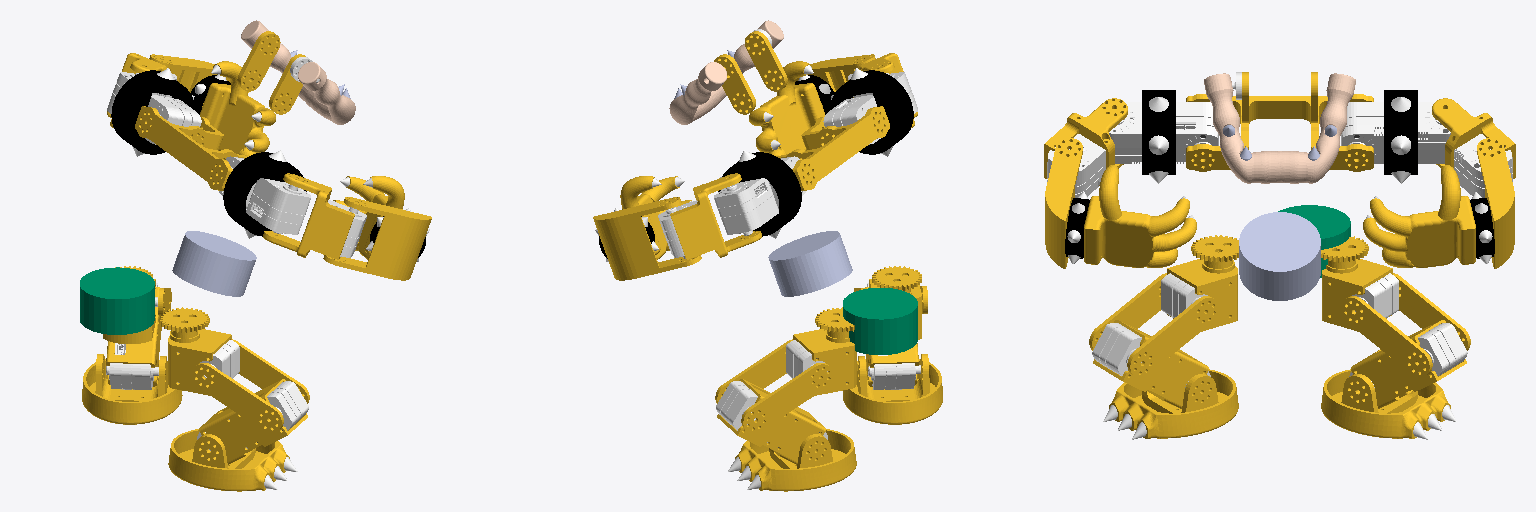
--- Facts derived from the render (not from the file) ---
The picture shows the robot from 3 angles, left to right: view 1: azimuth 30°, elevation 25°; view 2: azimuth 150°, elevation 25°; view 3: azimuth 270°, elevation 25°; orthographic projection.
Model bowser with 21 links and 20 joints (20 continuous), rooted at base_link, posed every joint at zero.
Links seen in each view (by area): view 1: right_arm_link3, left_arm_link3, head_link1, right_arm_link1, right_leg_link3, right_omni_link, left_arm_Link1, right_leg_link, right_leg_link1, left_leg_link3, arm_link, center_omni_link (+5 smaller); view 2: left_arm_link3, right_arm_link3, head_link1, left_arm_Link1, left_leg_link3, right_arm_link1, right_omni_link, left_leg_link1, right_leg_link3, arm_link, center_omni_link, left_arm_link2 (+5 smaller); view 3: left_arm_link3, right_arm_link3, head_link1, left_leg_link2, left_arm_Link1, right_arm_link1, center_omni_link, left_leg_link3, right_leg_link3, right_leg_link, left_leg_link, left_leg_link1 (+6 smaller).
Boxes of the visible links, <box> form: right_arm_link3: <box>323,176,431,280</box>; left_arm_link3: <box>149,54,275,155</box>; head_link1: <box>237,20,355,124</box>; right_arm_link1: <box>219,150,310,238</box>; right_leg_link3: <box>168,429,297,491</box>; right_omni_link: <box>80,267,154,334</box>; left_arm_Link1: <box>107,68,201,156</box>; right_leg_link: <box>159,307,239,395</box>; right_leg_link1: <box>191,339,309,432</box>; left_leg_link3: <box>82,354,182,424</box>; arm_link: <box>135,106,248,190</box>; center_omni_link: <box>172,231,256,296</box>; left_arm_link3: <box>593,176,701,280</box>; right_arm_link3: <box>749,54,875,155</box>; head_link1: <box>669,20,787,124</box>; left_arm_Link1: <box>714,150,805,238</box>; left_leg_link3: <box>728,429,856,491</box>; right_arm_link1: <box>823,68,917,156</box>; right_omni_link: <box>843,288,917,354</box>; left_leg_link1: <box>715,339,833,432</box>; right_leg_link3: <box>843,354,942,424</box>; arm_link: <box>776,106,889,190</box>; center_omni_link: <box>768,231,852,296</box>; left_arm_link2: <box>658,173,761,259</box>; left_arm_link3: <box>1363,138,1514,268</box>; right_arm_link3: <box>1045,138,1196,268</box>; head_link1: <box>1204,72,1355,183</box>; left_leg_link2: <box>1092,320,1467,408</box>; left_arm_Link1: <box>1341,90,1450,183</box>; right_arm_link1: <box>1109,90,1218,183</box>; center_omni_link: <box>1239,212,1320,300</box>; left_leg_link3: <box>1321,369,1456,439</box>; right_leg_link3: <box>1103,369,1238,439</box>; right_leg_link: <box>1161,235,1238,331</box>; left_leg_link: <box>1321,236,1398,331</box>; left_leg_link1: <box>1341,273,1470,377</box>.
Bounding box of the posed robot: 0.1764 × 0.276 × 0.2566 m (x, y, z).
17 mesh visuals loaded from 19 distinct referenced files (17 Collada DAE); not drawn: 2 (reference not matched to a file when rendering).

robot.urdf — bowser:
<?xml version='1.0' encoding='UTF-8'?>
<robot name="bowser">
  <link name="base_link">
    <inertial>
      <origin xyz="-0.0172862370243295 0.0174179252110844 -0.0384256118835408" rpy="0.0 -0.0 0.0"/>
      <mass value="1.07571326038379"/>
      <inertia ixx="0.00358832536052544" ixy="-3.60699795348327e-06" ixz="0.00053779355611646" iyy="0.00240474106091267" iyz="-8.0158991088152e-06" izz="0.00194451963723306"/>
    </inertial>
    <visual>
      <geometry>
        <mesh filename="package://bowser/meshes/base_link.dae"/>
      </geometry>
      <material name=""/>
      <origin xyz="-0.0677738031643562 0.0175 -0.0405824661838448" rpy="3.14159265358979 -2.80808253194293e-17 3.14159265358979"/>
    </visual>
    <collision>
      <geometry>
        <mesh filename="package://bowser/meshes/base_link.dae"/>
      </geometry>
      <origin xyz="-0.0677738031643562 0.0175 -0.0405824661838448" rpy="3.14159265358979 -2.80808253194293e-17 3.14159265358979"/>
    </collision>
  </link>
  <link name="arm_link">
    <inertial>
      <origin xyz="0.0185452681948974 0.0175000194476943 0.112782402994197" rpy="0.0 -0.0 0.0"/>
      <mass value="0.0180689507713013"/>
      <inertia ixx="1.77532383113865e-05" ixy="2.36852037760229e-19" ixz="-1.72151506568511e-06" iyy="5.7587429793183e-06" iyz="-3.77307064930499e-19" izz="2.12107700185249e-05"/>
    </inertial>
    <visual>
      <geometry>
        <mesh filename="package://bowser/meshes/arm_link.dae"/>
      </geometry>
      <material name=""/>
      <origin xyz="0.0157798663985208 0.0175000097237995 0.111640335878809" rpy="0.0 -0.391648329980259 3.23303124723229e-14"/>
    </visual>
    <collision>
      <geometry>
        <mesh filename="package://bowser/meshes/arm_link.dae"/>
      </geometry>
      <origin xyz="0.0157798663985208 0.0175000097237995 0.111640335878809" rpy="0.0 -0.391648329980259 3.23303124723229e-14"/>
    </collision>
  </link>
  <link name="left_arm_Link1">
    <inertial>
      <origin xyz="0.0157806354906083 -0.00150141674161319 0.111642222266866" rpy="0.0 -0.0 0.0"/>
      <mass value="0.0627449638126667"/>
      <inertia ixx="1.06694647152824e-05" ixy="1.20025427547083e-08" ixz="1.3457421796219e-08" iyy="1.31408512095508e-05" iyz="-2.88896529683435e-08" izz="1.07074324677628e-05"/>
    </inertial>
    <visual>
      <geometry>
        <mesh filename="package://bowser/meshes/left_arm_Link1.dae"/>
      </geometry>
      <material name=""/>
      <origin xyz="0.0157798505056382 -0.0275000000000995 0.111640333101539" rpy="1.7291205081823e-14 -0.391648329980259 2.58327614920899e-14"/>
    </visual>
    <collision>
      <geometry>
        <mesh filename="package://bowser/meshes/left_arm_Link1.dae"/>
      </geometry>
      <origin xyz="0.0157798505056382 -0.0275000000000995 0.111640333101539" rpy="1.7291205081823e-14 -0.391648329980259 2.58327614920899e-14"/>
    </collision>
  </link>
  <link name="left_arm_link2">
    <inertial>
      <origin xyz="0.0293336165126018 -0.0431146137999066 -0.111023037519431" rpy="0.0 -0.0 0.0"/>
      <mass value="0.03071656405111"/>
      <inertia ixx="6.24454977381069e-06" ixy="-6.23670031800418e-07" ixz="5.6366778460892e-07" iyy="5.57282269008493e-06" iyz="3.11593108185461e-07" izz="5.1201616663811e-06"/>
    </inertial>
    <visual>
      <geometry>
        <mesh filename="package://bowser/meshes/left_arm_link2.dae"/>
      </geometry>
      <material name=""/>
      <origin xyz="0.0507574408403025 -0.063189681763238 -0.111640333101526" rpy="-3.14159265358979 0.39164832998034693 -2.26892802759262"/>
    </visual>
    <collision>
      <geometry>
        <mesh filename="package://bowser/meshes/left_arm_link2.dae"/>
      </geometry>
      <origin xyz="0.0507574408403025 -0.063189681763238 -0.111640333101526" rpy="-3.14159265358979 0.39164832998034693 -2.26892802759262"/>
    </collision>
  </link>
  <link name="left_arm_link3">
    <inertial>
      <origin xyz="0.0529725461602323 -0.0833440224306198 -0.122429629501672" rpy="0.0 -0.0 0.0"/>
      <mass value="0.0461060541991233"/>
      <inertia ixx="1.73242504741454e-05" ixy="-2.84789875122409e-07" ixz="8.96964222358683e-07" iyy="1.32117829576276e-05" iyz="-1.07229726991123e-06" izz="1.3530077171721e-05"/>
    </inertial>
    <visual>
      <geometry>
        <mesh filename="package://bowser/meshes/left_arm_link3.dae"/>
      </geometry>
      <material name=""/>
      <origin xyz="0.0960520740804173 -0.0648521907989954 -0.111640333101549" rpy="3.14159265358979 0.3916483299806829 -1.74532925199433"/>
    </visual>
    <collision>
      <geometry>
        <mesh filename="package://bowser/meshes/left_arm_link3.dae"/>
      </geometry>
      <origin xyz="0.0960520740804173 -0.0648521907989954 -0.111640333101549" rpy="3.14159265358979 0.3916483299806829 -1.74532925199433"/>
    </collision>
  </link>
  <link name="right_arm_link1">
    <inertial>
      <origin xyz="0.0157806354739275 -0.0884985833987466 -0.111642222273736" rpy="0.0 -0.0 0.0"/>
      <mass value="0.0627449638126667"/>
      <inertia ixx="1.0701826091592e-05" ixy="-2.88899877718708e-08" ixz="-1.90402837100739e-08" iyy="1.31408512095508e-05" iyz="-1.2001736863026e-08" izz="1.06750710914532e-05"/>
    </inertial>
    <visual>
      <geometry>
        <mesh filename="package://bowser/meshes/right_arm_link1.dae"/>
      </geometry>
      <material name=""/>
      <origin xyz="0.0157798505056382 -0.0624999999999038 -0.111640333101537" rpy="3.14159265358978 0.391648329980259 -3.78444093103145e-14"/>
    </visual>
    <collision>
      <geometry>
        <mesh filename="package://bowser/meshes/right_arm_link1.dae"/>
      </geometry>
      <origin xyz="0.0157798505056382 -0.0624999999999038 -0.111640333101537" rpy="3.14159265358978 0.391648329980259 -3.78444093103145e-14"/>
    </collision>
  </link>
  <link name="right_arm_link2">
    <inertial>
      <origin xyz="0.0561240616822117 0.0656373382998995 -0.110943513011907" rpy="0.0 -0.0 0.0"/>
      <mass value="0.0307165635463501"/>
      <inertia ixx="6.24838151087057e-06" ixy="6.61793174679761e-07" ixz="5.59820080043751e-07" iyy="5.57282259214839e-06" iyz="-2.19281499307165e-07" izz="5.11633005589501e-06"/>
    </inertial>
    <visual>
      <geometry>
        <mesh filename="package://bowser/meshes/right_arm_link2.dae"/>
      </geometry>
      <material name=""/>
      <origin xyz="0.0775689963493154 0.0856872481021434 -0.111640333101536" rpy="-3.14159265358979 0.391648329980171 2.26892802759259"/>
    </visual>
    <collision>
      <geometry>
        <mesh filename="package://bowser/meshes/right_arm_link2.dae"/>
      </geometry>
      <origin xyz="0.0775689963493154 0.0856872481021434 -0.111640333101536" rpy="-3.14159265358979 0.391648329980171 2.26892802759259"/>
    </collision>
  </link>
  <link name="right_arm_link3">
    <inertial>
      <origin xyz="0.0874407294924414 0.0894222438480117 -0.122429885338886" rpy="0.0 -0.0 0.0"/>
      <mass value="0.0461069184836773"/>
      <inertia ixx="1.73247672578176e-05" ixy="2.84728352852963e-07" ixz="8.96967980064958e-07" iyy="1.32119191374547e-05" iyz="1.07234421411429e-06" izz="1.35304713148511e-05"/>
    </inertial>
    <visual>
      <geometry>
        <mesh filename="package://bowser/meshes/right_arm_link3.dae"/>
      </geometry>
      <material name=""/>
      <origin xyz="0.130520345435634 0.0709298770173241 -0.111640333101548" rpy="-3.1415926535897 0.39164832998025584 1.74532925199433"/>
    </visual>
    <collision>
      <geometry>
        <mesh filename="package://bowser/meshes/right_arm_link3.dae"/>
      </geometry>
      <origin xyz="0.130520345435634 0.0709298770173241 -0.111640333101548" rpy="-3.1415926535897 0.39164832998025584 1.74532925199433"/>
    </collision>
  </link>
  <link name="head_link1">
    <inertial>
      <origin xyz="-0.044325374982728 -0.0180411342257961 0.166095025038656" rpy="0.0 -0.0 0.0"/>
      <mass value="0.0349073571719236"/>
      <inertia ixx="2.60861897531727e-05" ixy="3.23076378895872e-11" ixz="-4.65050114537364e-06" iyy="1.14931510104479e-05" iyz="-1.80233886000198e-10" izz="2.38242106804047e-05"/>
    </inertial>
    <visual>
      <geometry>
        <mesh filename="package://bowser/meshes/head_link1.dae"/>
      </geometry>
      <material name=""/>
      <origin xyz="-0.0138318254464297 -0.0174999999999993 0.163972973567231" rpy="-5.58997369476623e-16 -0.5585053606381821 -3.14159265358979"/>
    </visual>
    <collision>
      <geometry>
        <mesh filename="package://bowser/meshes/head_link1.dae"/>
      </geometry>
      <origin xyz="-0.0138318254464297 -0.0174999999999993 0.163972973567231" rpy="-5.58997369476623e-16 -0.5585053606381821 -3.14159265358979"/>
    </collision>
  </link>
  <link name="head_link2">
    <inertial>
      <origin xyz="-0.133552794603525 0.0174768647081898 -0.17490933846931" rpy="0.0 -0.0 0.0"/>
      <mass value="0.120523025252236"/>
      <inertia ixx="3.97613676417708e-05" ixy="-2.01601733527065e-09" ixz="-2.02548857861602e-06" iyy="2.78371840412587e-05" iyz="1.37571282176212e-08" izz="5.38535897084007e-05"/>
    </inertial>
    <visual>
      <geometry>
        <mesh filename="package://bowser/meshes/head_link2.dae"/>
      </geometry>
      <material name=""/>
      <origin xyz="-0.111870472348922 0.0175000000000001 -0.152928419695134" rpy="3.14159265358979 8.5015291933416e-16 3.14159265358979"/>
    </visual>
    <collision>
      <geometry>
        <mesh filename="package://bowser/meshes/head_link2.dae"/>
      </geometry>
      <origin xyz="-0.111870472348922 0.0175000000000001 -0.152928419695134" rpy="3.14159265358979 8.5015291933416e-16 3.14159265358979"/>
    </collision>
  </link>
  <link name="right_omni_link">
    <inertial>
      <origin xyz="-0.0496363166470292 0.0854999999999993 -0.0550159209504048" rpy="0.0 -0.0 0.0"/>
      <mass value="0.045238934211693"/>
      <inertia ixx="8.87060101667614e-06" ixy="-1.86165150663594e-21" ixz="0.0" iyy="1.30288130529676e-05" iyz="-1.27526965174189e-21" izz="8.87060101667614e-06"/>
    </inertial>
    <visual>
      <geometry>
        <!--<mesh filename="package://bowser/meshes/right_omni_link.dae"/>-->
        <cylinder radius="0.024" length="0.025"/>
      </geometry>
      <material name=""/>
      <origin xyz="-0.0496363166470292 0.0854999999999992 -0.0550159209504048" rpy="-3.14159265358979 0.38397243543875303 3.14159265358979"/>
    </visual>
    <collision>
      <geometry>
        <!--<mesh filename="package://bowser/meshes/right_omni_link.dae"/>-->
        <cylinder radius="0.024" length="0.025"/>
      </geometry>
      <origin xyz="-0.0496363166470292 0.0854999999999992 -0.0550159209504048" rpy="-3.14159265358979 0.38397243543875303 3.14159265358979"/>
    </collision>
  </link>
  <link name="left_omni_link">
    <inertial>
      <origin xyz="-0.0496363166470292 -0.0505000000000007 -0.0550159209504048" rpy="0.0 -0.0 0.0"/>
      <mass value="0.045238934211693"/>
      <inertia ixx="8.87060101667613e-06" ixy="-1.4215195412076e-21" ixz="4.2351647362715e-22" iyy="1.30288130529676e-05" iyz="-1.62199562872005e-21" izz="8.87060101667613e-06"/>
    </inertial>
    <visual>
      <geometry>
        <!--<mesh filename="package://bowser/meshes/left_omni_link.dae"/>-->
        <cylinder radius="0.024" length="0.025"/>
      </geometry>
      <material name=""/>
      <origin xyz="-0.0496363166470292 -0.0505000000000007 -0.0550159209504048" rpy="3.14159265358979 0.38397243543875303 3.14159265358979"/>
    </visual>
    <collision>
      <geometry>
        <!--<mesh filename="package://bowser/meshes/left_omni_link.dae"/>-->
        <cylinder radius="0.024" length="0.025"/>
      </geometry>
      <origin xyz="-0.0496363166470292 -0.0505000000000007 -0.0550159209504048" rpy="3.14159265358979 0.38397243543875303 3.14159265358979"/>
    </collision>
  </link>
  <link name="center_omni_link">
    <inertial>
      <origin xyz="-0.0496363166470319 0.0175 -0.0405159209504036" rpy="0.0 -0.0 0.0"/>
      <mass value="0.045238934211693"/>
      <inertia ixx="9.45412332684603e-06" ixy="-7.05860789378584e-22" ixz="-1.44426839857661e-06" iyy="8.87060101667613e-06" iyz="-1.78119558569752e-21" izz="1.24452907427977e-05"/>
    </inertial>
    <visual>
      <geometry>
        <mesh filename="package://bowser/meshes/center_omni_link.dae"/>
      </geometry>
      <material name=""/>
      <origin xyz="-0.0496363166470319 0.0175 -0.0405159209504035" rpy="-3.14159265358979 0.38397243543875303 -3.14159265358979"/>
    </visual>
    <collision>
      <geometry>
        <mesh filename="package://bowser/meshes/center_omni_link.dae"/>
      </geometry>
      <origin xyz="-0.0496363166470319 0.0175 -0.0405159209504035" rpy="-3.14159265358979 0.38397243543875303 -3.14159265358979"/>
    </collision>
  </link>
  <link name="right_leg_link">
    <inertial>
      <origin xyz="0.0211688897615015 -0.0622954767705835 0.0270355334650468" rpy="0.0 -0.0 0.0"/>
      <mass value="0.03897140127634"/>
      <inertia ixx="5.56461883529681e-06" ixy="1.9967389357433e-07" ixz="2.69693720567138e-08" iyy="5.41426279285964e-06" iyz="-4.16843504968473e-08" izz="5.65176552055112e-06"/>
    </inertial>
    <visual>
      <geometry>
        <mesh filename="package://bowser/meshes/right_leg_link.dae"/>
      </geometry>
      <material name=""/>
      <origin xyz="0.0155320374883209 -0.0544358117950135 0.00400000000000031" rpy="4.682675583284411e-15 -3.13037374448842e-15 -2.53072741539178"/>
    </visual>
    <collision>
      <geometry>
        <mesh filename="package://bowser/meshes/right_leg_link.dae"/>
      </geometry>
      <origin xyz="0.0155320374883209 -0.0544358117950135 0.00400000000000031" rpy="4.682675583284411e-15 -3.13037374448842e-15 -2.53072741539178"/>
    </collision>
  </link>
  <link name="right_leg_link1">
    <inertial>
      <origin xyz="0.00119261561664627 0.0615826349934407 -0.00389045113008859" rpy="0.0 -0.0 0.0"/>
      <mass value="0.00661141153462385"/>
      <inertia ixx="1.74056775824804e-06" ixy="8.45524886734918e-07" ixz="-4.36270188277786e-07" iyy="1.12507597604239e-06" iyz="-6.23058399789937e-07" izz="1.80949469837897e-06"/>
    </inertial>
    <visual>
      <geometry>
        <mesh filename="package://bowser/meshes/right_leg_link1.dae"/>
      </geometry>
      <material name=""/>
      <origin xyz="0.0155320265254325 0.080142731906048 -0.0125451664565899" rpy="-2.77671934805724 0.24484286215515394 2.5761172062619"/>
    </visual>
    <collision>
      <geometry>
        <mesh filename="package://bowser/meshes/right_leg_link1.dae"/>
      </geometry>
      <origin xyz="0.0155320265254325 0.080142731906048 -0.0125451664565899" rpy="-2.77671934805724 0.24484286215515394 2.5761172062619"/>
    </collision>
  </link>
  <link name="right_leg_link2">
    <inertial>
      <origin xyz="-0.0886805625016655 0.0925862028740503 -0.061369987384431" rpy="0.0 -0.0 0.0"/>
      <mass value="0.0523990895017907"/>
      <inertia ixx="8.9217792158087e-06" ixy="5.42801899274871e-07" ixz="6.68364367893434e-07" iyy="8.5084612890202e-06" iyz="1.00944033325595e-06" izz="9.13260129735795e-06"/>
    </inertial>
    <visual>
      <geometry>
        <mesh filename="package://bowser/meshes/right_leg_link2.dae"/>
      </geometry>
      <material name=""/>
      <origin xyz="-0.0724940125970381 0.0794614895134548 -0.0759357987991357" rpy="-2.27806788622044 0.489116666389122 -2.63901107573773"/>
    </visual>
    <collision>
      <geometry>
        <mesh filename="package://bowser/meshes/right_leg_link2.dae"/>
      </geometry>
      <origin xyz="-0.0724940125970381 0.0794614895134548 -0.0759357987991357" rpy="-2.27806788622044 0.489116666389122 -2.63901107573773"/>
    </collision>
  </link>
  <link name="right_leg_link3">
    <inertial>
      <origin xyz="0.0126401706541042 0.0773653859015674 0.0882271591060047" rpy="0.0 -0.0 0.0"/>
      <mass value="0.0250670111634406"/>
      <inertia ixx="8.80338515551374e-06" ixy="3.11783544259289e-07" ixz="8.19461229713681e-08" iyy="8.57882804984e-06" iyz="1.1097488989503e-07" izz="1.57008923714625e-05"/>
    </inertial>
    <visual>
      <geometry>
        <mesh filename="package://bowser/meshes/right_leg_link3.dae"/>
      </geometry>
      <material name=""/>
      <origin xyz="0.0155320265254159 0.0814744335350602 0.0728833113409256" rpy="-3.14159265358979 3.08780254995788e-16 2.53072741539178"/>
    </visual>
    <collision>
      <geometry>
        <mesh filename="package://bowser/meshes/right_leg_link3.dae"/>
      </geometry>
      <origin xyz="0.0155320265254159 0.0814744335350602 0.0728833113409256" rpy="-3.14159265358979 3.08780254995788e-16 2.53072741539178"/>
    </collision>
  </link>
  <link name="left_leg_link">
    <inertial>
      <origin xyz="0.000914602095620652 0.0337505664284176 0.0270355333892133" rpy="0.0 -0.0 0.0"/>
      <mass value="0.0389714013100235"/>
      <inertia ixx="5.56019900614236e-06" ixy="-2.01282579905886e-07" ixz="-4.83945261831144e-08" iyy="5.41868260081158e-06" iyz="-1.1086058805193e-08" izz="5.65176552704427e-06"/>
    </inertial>
    <visual>
      <geometry>
        <mesh filename="package://bowser/meshes/left_leg_link.dae"/>
      </geometry>
      <material name=""/>
      <origin xyz="-0.00454314865356559 0.0257654769359373 0.00399999999999986" rpy="7.04429966175573e-15 5.87160346137124e-17 2.53072741539178"/>
    </visual>
    <collision>
      <geometry>
        <mesh filename="package://bowser/meshes/left_leg_link.dae"/>
      </geometry>
      <origin xyz="-0.00454314865356559 0.0257654769359373 0.00399999999999986" rpy="7.04429966175573e-15 5.87160346137124e-17 2.53072741539178"/>
    </collision>
  </link>
  <link name="left_leg_link1">
    <inertial>
      <origin xyz="0.0188825596561263 -0.035598499318493 -0.00822615032368594" rpy="0.0 -0.0 0.0"/>
      <mass value="0.00661141153462385"/>
      <inertia ixx="1.74056775824802e-06" ixy="-8.45524886734942e-07" ixz="-4.36270188277763e-07" iyy="1.12507597604236e-06" iyz="6.23058399789902e-07" izz="1.80949469837902e-06"/>
    </inertial>
    <visual>
      <geometry>
        <mesh filename="package://bowser/meshes/left_leg_link1.dae"/>
      </geometry>
      <material name=""/>
      <origin xyz="0.00454314874685075 -0.0541585962283513 0.000428564999422994" rpy="-0.36487330553251207 -0.244842862155159 -0.565475447327903"/>
    </visual>
    <collision>
      <geometry>
        <mesh filename="package://bowser/meshes/left_leg_link1.dae"/>
      </geometry>
      <origin xyz="0.00454314874685075 -0.0541585962283513 0.000428564999422994" rpy="-0.36487330553251207 -0.244842862155159 -0.565475447327903"/>
    </collision>
  </link>
  <link name="left_leg_link2">
    <inertial>
      <origin xyz="-0.088652364230855 -0.0666180206413702 -0.0378376493623563" rpy="0.0 -0.0 0.0"/>
      <mass value="0.0523990894756317"/>
      <inertia ixx="8.90571663540611e-06" ixy="-5.48648198232392e-07" ixz="7.19969555042885e-07" iyy="8.52452386521291e-06" iyz="-9.7330599207395e-07" izz="9.13260129674983e-06"/>
    </inertial>
    <visual>
      <geometry>
        <mesh filename="package://bowser/meshes/left_leg_link2.dae"/>
      </geometry>
      <material name=""/>
      <origin xyz="-0.0724940125970807 -0.0535108013229157 -0.0524504462908491" rpy="2.27806788622048 0.489116666389108 2.63901107573777"/>
    </visual>
    <collision>
      <geometry>
        <mesh filename="package://bowser/meshes/left_leg_link2.dae"/>
      </geometry>
      <origin xyz="-0.0724940125970807 -0.0535108013229157 -0.0524504462908491" rpy="2.27806788622048 0.489116666389108 2.63901107573777"/>
    </collision>
  </link>
  <link name="left_leg_link3">
    <inertial>
      <origin xyz="-0.0074153131285151 -0.0486812792291067 0.088227158575456" rpy="0.0 -0.0 0.0"/>
      <mass value="0.0250670077871439"/>
      <inertia ixx="8.8055069211056e-06" ixy="-3.1101065379102e-07" ixz="7.62551447630694e-08" iyy="8.57670454837762e-06" iyz="-1.14959905133708e-07" izz="1.57008906825506e-05"/>
    </inertial>
    <visual>
      <geometry>
        <mesh filename="package://bowser/meshes/left_leg_link3.dae"/>
      </geometry>
      <material name=""/>
      <origin xyz="-0.00454314874685681 -0.0528041119849176 0.0728833113409351" rpy="-3.14159265358978 2.3706517724741496e-14 -2.53072741539179"/>
    </visual>
    <collision>
      <geometry>
        <mesh filename="package://bowser/meshes/left_leg_link3.dae"/>
      </geometry>
      <origin xyz="-0.00454314874685681 -0.0528041119849176 0.0728833113409351" rpy="-3.14159265358978 2.3706517724741496e-14 -2.53072741539179"/>
    </collision>
  </link>
  <joint name="arm" type="continuous">
    <limit effort="0.0" velocity="0.0"/>
    <parent link="base_link"/>
    <child link="arm_link"/>
    <axis xyz=" 0. -1.  0."/>
    <origin xyz="-0.0105742639612754 0.0 0.0565812178428716" rpy="3.14159265358978 -0.391648329980259 -3.14159265358976"/>
  </joint>
  <joint name="left_arm1" type="continuous">
    <limit effort="0.0" velocity="0.0"/>
    <parent link="arm_link"/>
    <child link="left_arm_Link1"/>
    <axis xyz="1. 0. 0."/>
    <origin xyz="0.0 0.0450000097238972 0.0" rpy="0.0 -0.0 0.0"/>
  </joint>
  <joint name="left_arm2" type="continuous">
    <limit effort="0.0" velocity="0.0"/>
    <parent link="left_arm_Link1"/>
    <child link="left_arm_link2"/>
    <axis xyz="0. 0. 1."/>
    <origin xyz="0.0 0.0520000000000004 0.0" rpy="3.14159265358972 -0.0 -2.26892802759258"/>
  </joint>
  <joint name="left_arm3" type="continuous">
    <limit effort="0.0" velocity="0.0"/>
    <parent link="left_arm_link2"/>
    <child link="left_arm_link3"/>
    <axis xyz="0. 0. 1."/>
    <origin xyz="0.0 0.0410000000000041 0.0" rpy="-0.0 -0.0 -0.523598775598285"/>
  </joint>
  <joint name="right_arm1" type="continuous">
    <limit effort="0.0" velocity="0.0"/>
    <parent link="arm_link"/>
    <child link="right_arm_link1"/>
    <axis xyz="-1.  0.  0."/>
    <origin xyz="0.0 -0.0449999902761028 0.0" rpy="-3.14159265358978 -0.0 0.0"/>
  </joint>
  <joint name="right_arm2" type="continuous">
    <limit effort="0.0" velocity="0.0"/>
    <parent link="right_arm_link1"/>
    <child link="right_arm_link2"/>
    <axis xyz=" 0.  0. -1."/>
    <origin xyz="0.0 0.0520000000000013 0.0" rpy="0.0 -0.0 -2.26892802759263"/>
  </joint>
  <joint name="right_arm3" type="continuous">
    <limit effort="0.0" velocity="0.0"/>
    <parent link="right_arm_link2"/>
    <child link="right_arm_link3"/>
    <axis xyz="0. 0. 1."/>
    <origin xyz="0.0 -0.0409999999999963 0.0" rpy="0.0 -0.0 0.5235987755983001"/>
  </joint>
  <joint name="head1" type="continuous">
    <limit effort="0.0" velocity="0.0"/>
    <parent link="base_link"/>
    <child link="head_link1"/>
    <axis xyz=" 0. -1.  0."/>
    <origin xyz="0.0308486875787339 0.0 0.0911447511073799" rpy="3.14159265358979 0.5585053606381821 0.0"/>
  </joint>
  <joint name="head2" type="continuous">
    <limit effort="0.0" velocity="0.0"/>
    <parent link="head_link1"/>
    <child link="head_link2"/>
    <axis xyz="0. 1. 0."/>
    <origin xyz="0.0 0.0 -0.0249999999999996" rpy="-3.14159265358979 0.558505360638181 0.0"/>
  </joint>
  <joint name="right_omni" type="continuous">
    <limit effort="0.0" velocity="0.0"/>
    <parent link="base_link"/>
    <child link="right_omni_link"/>
    <axis xyz="0. 1. 0."/>
    <origin xyz="-0.00114248503819581 -0.0679999999999992 -0.00816668402336392" rpy="0.0 0.38397243543875303 0.0"/>
  </joint>
  <joint name="left_omni" type="continuous">
    <limit effort="0.0" velocity="0.0"/>
    <parent link="base_link"/>
    <child link="left_omni_link"/>
    <axis xyz=" 0. -1.  0."/>
    <origin xyz="-0.00114248503819585 0.0680000000000007 -0.00816668402336396" rpy="0.0 0.38397243543875303 0.0"/>
  </joint>
  <joint name="center_omni" type="continuous">
    <limit effort="0.0" velocity="0.0"/>
    <parent link="base_link"/>
    <child link="center_omni_link"/>
    <axis xyz="0. 0. 1."/>
    <origin xyz="-0.00657428064272451 0.0 -0.0216108499145846" rpy="0.0 0.38397243543875303 0.0"/>
  </joint>
  <joint name="right_leg" type="continuous">
    <limit effort="0.0" velocity="0.0"/>
    <parent link="base_link"/>
    <child link="right_leg_link"/>
    <axis xyz=" 0.  0. -1."/>
    <origin xyz="-0.0492738044856277 -0.0360000172262382 -0.0365824661838448" rpy="-3.14159265358979 -0.0 0.6108652381980101"/>
  </joint>
  <joint name="right_leg1" type="continuous">
    <limit effort="0.0" velocity="0.0"/>
    <parent link="right_leg_link"/>
    <child link="right_leg_link1"/>
    <axis xyz="1. 0. 0."/>
    <origin xyz="0.0 0.0234999866469598 0.0265000000000077" rpy="-2.7052603405912 -0.0 0.0"/>
  </joint>
  <joint name="right_leg2" type="continuous">
    <limit effort="0.0" velocity="0.0"/>
    <parent link="right_leg_link1"/>
    <child link="right_leg_link2"/>
    <axis xyz="0.63368727 0.77358932 0.        "/>
    <origin xyz="0.0 -0.05 0.0" rpy="0.3507331163159901 0.39715316677340495 -0.8132060816935249"/>
  </joint>
  <joint name="right_leg3" type="continuous">
    <limit effort="0.0" velocity="0.0"/>
    <parent link="right_leg_link2"/>
    <child link="right_leg_link3"/>
    <axis xyz="-1.  0.  0."/>
    <origin xyz="0.0 0.0 -0.0509999999999931" rpy="-0.9599310885969029 -0.0 0.88448591713094"/>
  </joint>
  <joint name="left_leg" type="continuous">
    <limit effort="0.0" velocity="0.0"/>
    <parent link="base_link"/>
    <child link="left_leg_link"/>
    <axis xyz=" 0.  0. -1."/>
    <origin xyz="-0.0492738032154793 0.0360000000896287 -0.0365824661838448" rpy="-3.14159265358979 -0.0 -0.6108652381980101"/>
  </joint>
  <joint name="left_leg1" type="continuous">
    <limit effort="0.0" velocity="0.0"/>
    <parent link="left_leg_link"/>
    <child link="left_leg_link1"/>
    <axis xyz="-1.  0.  0."/>
    <origin xyz="0.0 -0.0234999999558904 0.0265000000001133" rpy="0.436332312998574 -0.0 -3.14159265358978"/>
  </joint>
  <joint name="left_leg2" type="continuous">
    <limit effort="0.0" velocity="0.0"/>
    <parent link="left_leg_link1"/>
    <child link="left_leg_link2"/>
    <axis xyz=" 0.63368727 -0.77358932  0.        "/>
    <origin xyz="0.0 0.05 0.0" rpy="2.79085953727377 -0.397153166773378 2.3283865718963"/>
  </joint>
  <joint name="left_leg3" type="continuous">
    <limit effort="0.0" velocity="0.0"/>
    <parent link="left_leg_link2"/>
    <child link="left_leg_link3"/>
    <axis xyz="-1.  0.  0."/>
    <origin xyz="0.0 0.0 -0.0509999999999373" rpy="0.959931088596871 -0.0 -0.884485917130886"/>
  </joint>
  <material name="">
    <color rgba="0.75294118 0.         0.         1.        "/>
  </material>
</robot>
